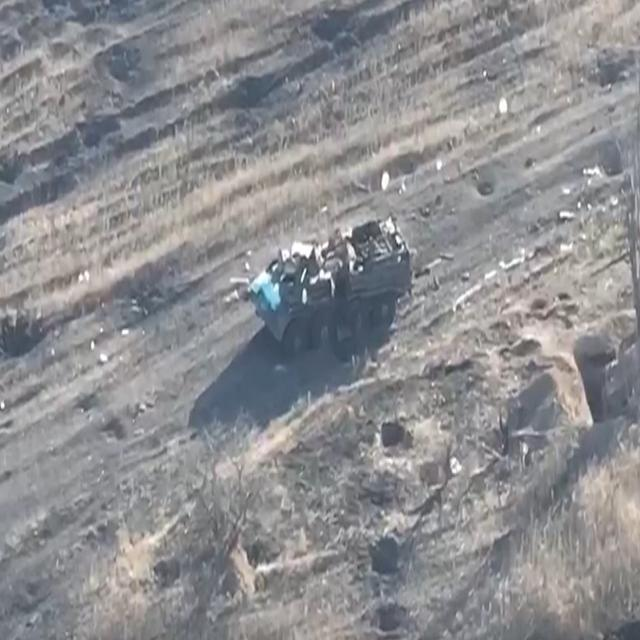APC: (248, 214, 413, 367)
